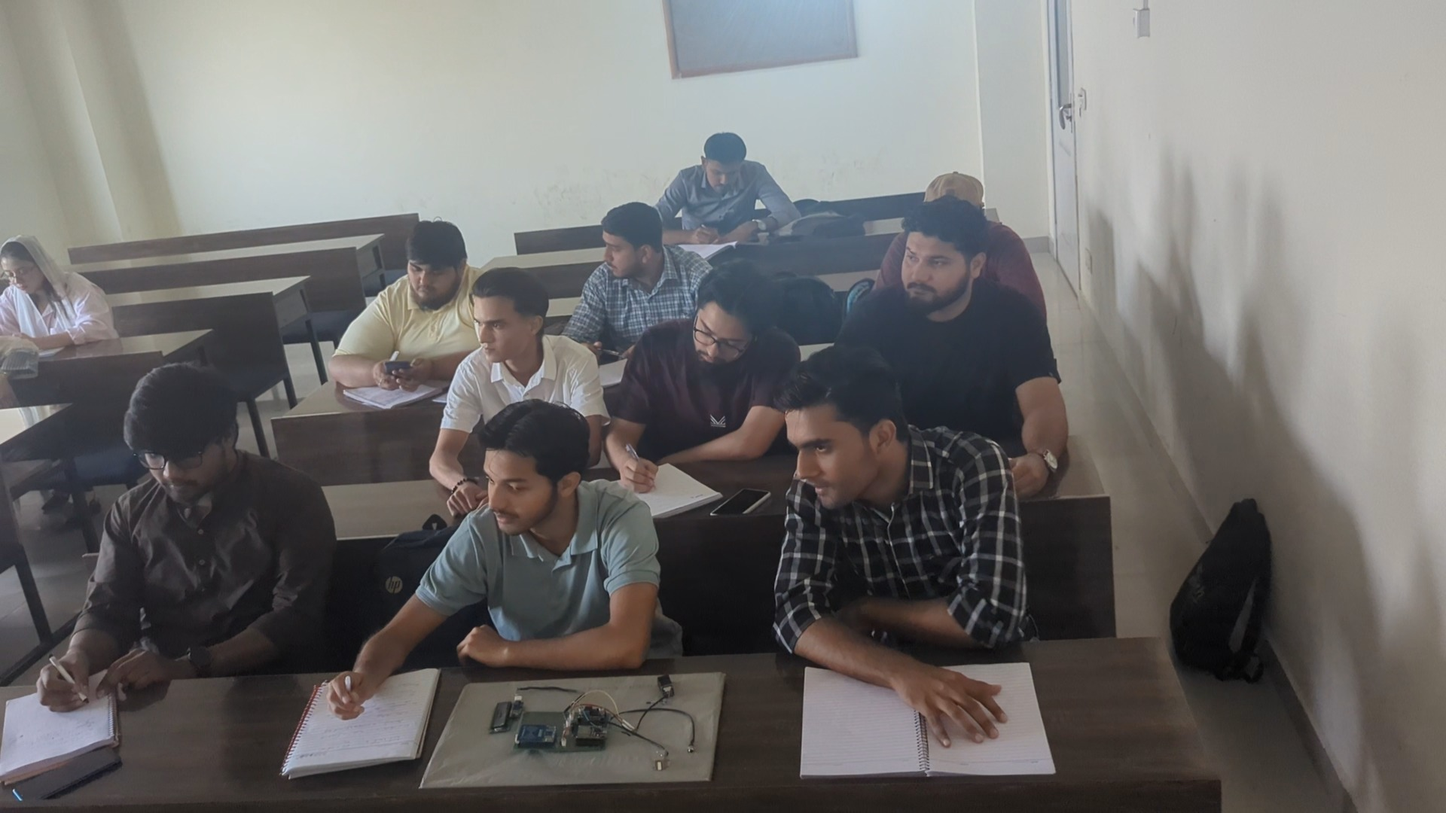look_forward: (867, 201, 1039, 388), (357, 219, 463, 361), (455, 267, 570, 397)
turn_head: (759, 365, 1050, 757), (576, 196, 677, 332)
using_device: (4, 225, 126, 367)
write: (313, 402, 605, 759), (11, 373, 264, 766), (611, 266, 769, 519), (682, 119, 790, 266), (535, 693, 536, 694)
